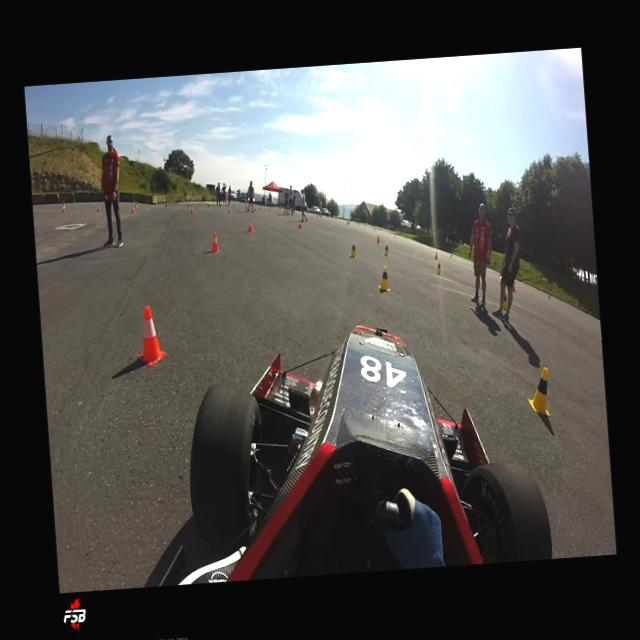orange_cone: (134, 304, 166, 368), (208, 231, 220, 253), (246, 219, 252, 232), (297, 219, 302, 229), (434, 251, 438, 260), (376, 234, 380, 243), (130, 205, 134, 213), (96, 203, 100, 210), (61, 203, 64, 212), (227, 206, 230, 214), (190, 206, 193, 212)
yellow_cone: (525, 367, 551, 418), (376, 264, 390, 292), (348, 240, 356, 258), (434, 260, 442, 274), (382, 244, 390, 256), (501, 294, 506, 310), (134, 201, 138, 208), (165, 203, 168, 209), (393, 232, 395, 237), (208, 204, 210, 208)
